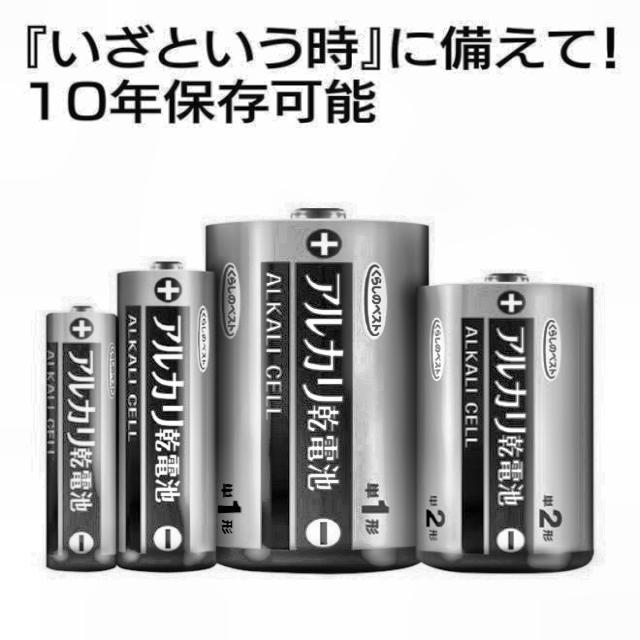drycell: (110, 259, 222, 568), (45, 304, 116, 574)
